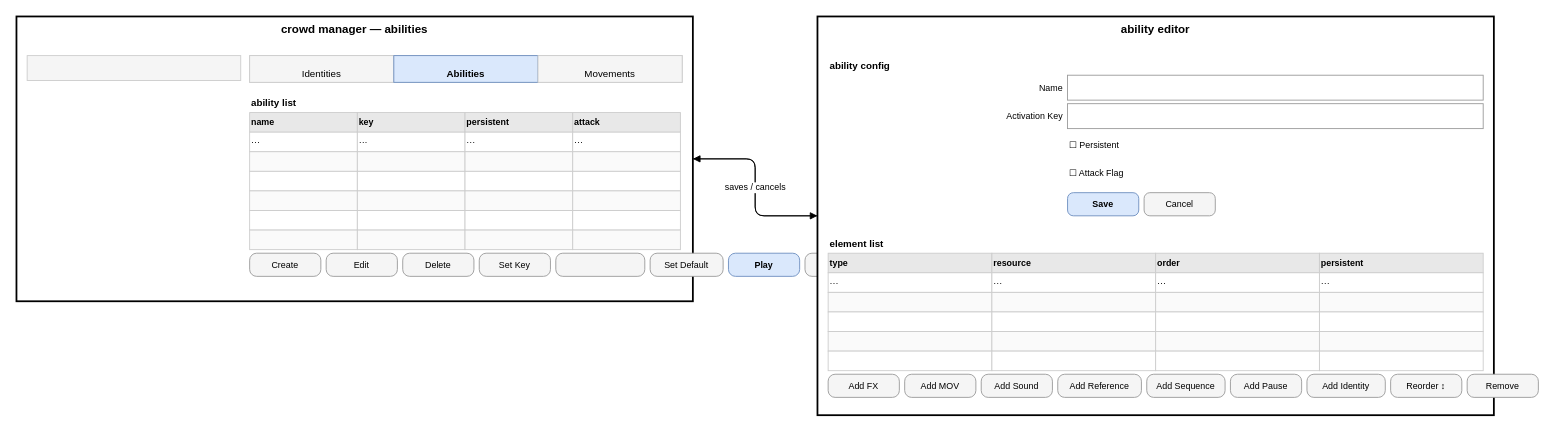
The diagram is 1554 pixels wide and 431 high, and some of its shapes have lost their labels. Each missing label, with the centre of its shape:
crowd tree (dimmed): point 133,68
Toggle Persist: point 600,264
